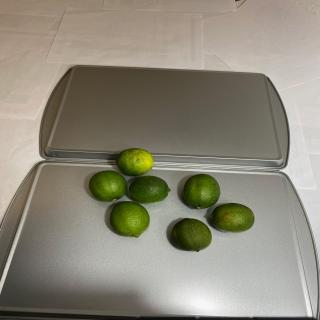Lemon: (109, 201, 150, 238), (171, 218, 212, 252), (183, 173, 220, 210), (210, 203, 255, 233), (89, 170, 128, 202), (128, 175, 170, 204), (115, 148, 154, 176)
